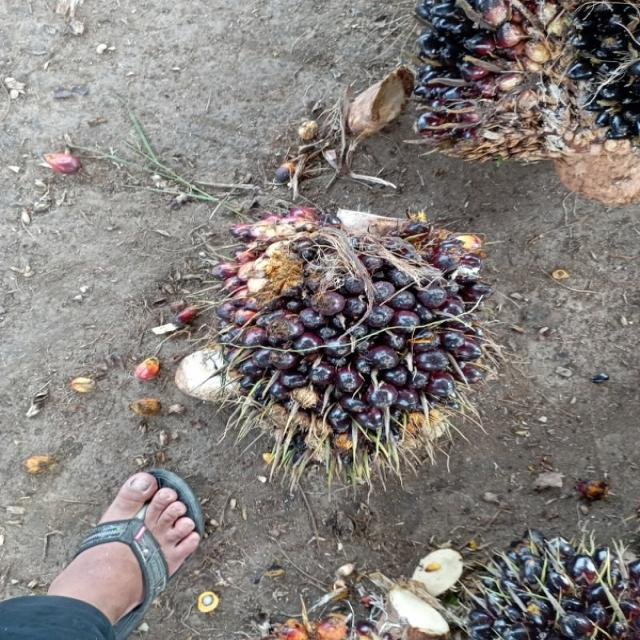fraksi 00: (160, 183, 508, 506)
